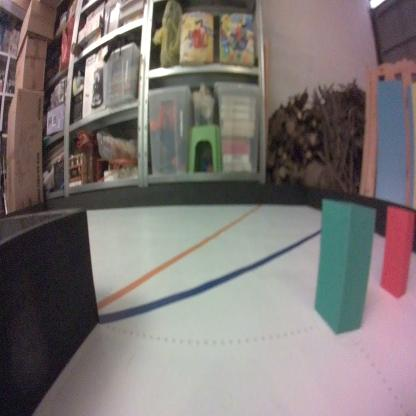green: (312, 195, 378, 338)
red: (379, 202, 416, 300)
